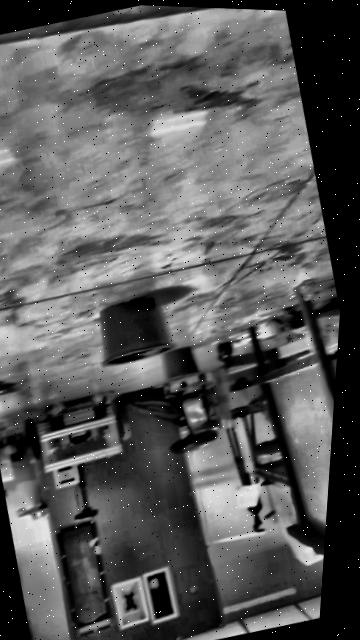pot: (89, 291, 182, 371), (158, 344, 203, 386)
